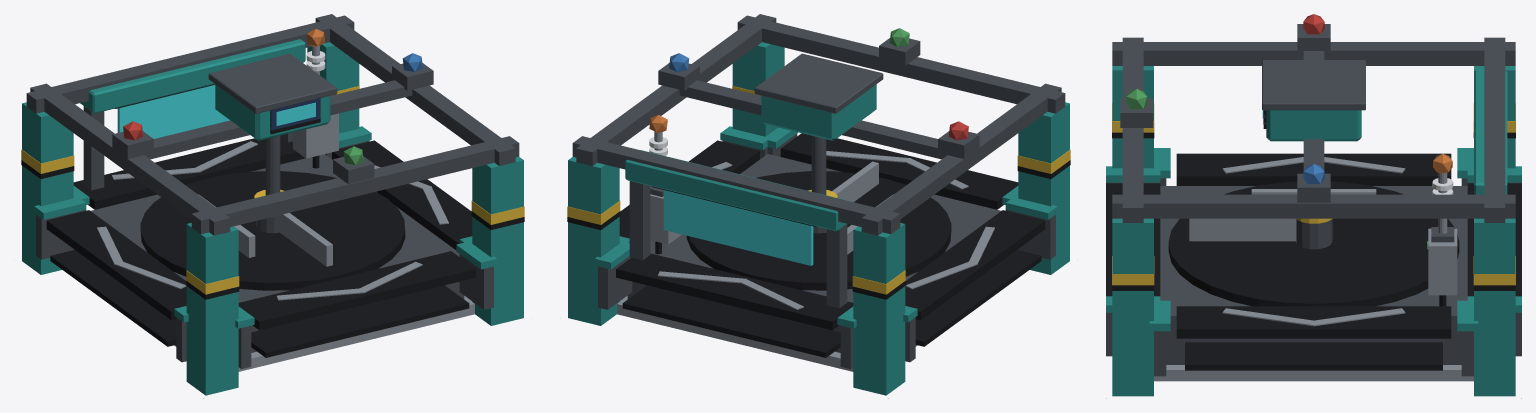
Rendered from trieur.glb.
The picture shows the model from 3 angles, left to right: view 1: azimuth 30°, elevation 25°; view 2: azimuth 150°, elevation 25°; view 3: azimuth 270°, elevation 25°; orthographic projection. The views are drawn at different scales.
Visible parts, largest first — view 1: pieces_acier_sombre.022, pieces_noir.030, pieces_trieur.002, plateau_fond.006, scanner_cyan.002, pieces_acier.054, bande_acier.048, aiguillage_acier.004, pieces_jaune.024, pieces_cyan.002, pieces_panneau.002; view 2: pieces_acier_sombre.022, pieces_trieur.002, pieces_noir.030, plateau_fond.006, scanner_cyan.002, pieces_acier.054, bande_acier.048, pieces_jaune.024, aiguillage_acier.004; view 3: pieces_acier_sombre.022, pieces_noir.030, pieces_trieur.002, plateau_fond.006, pieces_acier.054, aiguillage_acier.004, bande_acier.048, pieces_jaune.024, aiguillage_acier_sombre.004, pieces_vert.002, pieces_bleu.002, pieces_rouge.002.
Part boxes in pixels (x1,y1,x2,y2): pieces_acier_sombre.022: (26,14,519,368); pieces_noir.030: (21,84,524,357); pieces_trieur.002: (22,39,523,395); plateau_fond.006: (140,171,405,290); scanner_cyan.002: (117,85,229,138); pieces_acier.054: (174,45,474,371); bande_acier.048: (97,141,448,300); aiguillage_acier.004: (198,194,332,266); pieces_jaune.024: (21,86,524,294); pieces_cyan.002: (276,102,315,125); pieces_panneau.002: (270,98,320,130); pieces_acier_sombre.022: (572,14,1065,368); pieces_trieur.002: (568,42,1069,395); pieces_noir.030: (567,133,1070,357); plateau_fond.006: (686,171,951,290); scanner_cyan.002: (663,190,813,265); pieces_acier.054: (617,131,917,371); bande_acier.048: (658,151,994,309); pieces_jaune.024: (567,86,1070,294); aiguillage_acier.004: (832,161,893,254); pieces_acier_sombre.022: (1106,24,1521,376); pieces_noir.030: (1106,110,1521,370); pieces_trieur.002: (1106,66,1521,396); plateau_fond.006: (1168,181,1459,306); pieces_acier.054: (1154,173,1473,381); aiguillage_acier.004: (1189,189,1376,241); bande_acier.048: (1222,157,1405,326); pieces_jaune.024: (1112,103,1515,285); aiguillage_acier_sombre.004: (1295,219,1332,249); pieces_vert.002: (1126,89,1428,249); pieces_bleu.002: (1303,164,1324,184); pieces_rouge.002: (1303,14,1324,34).
Size of the model in its own units: 1 by 0.61 by 1.
